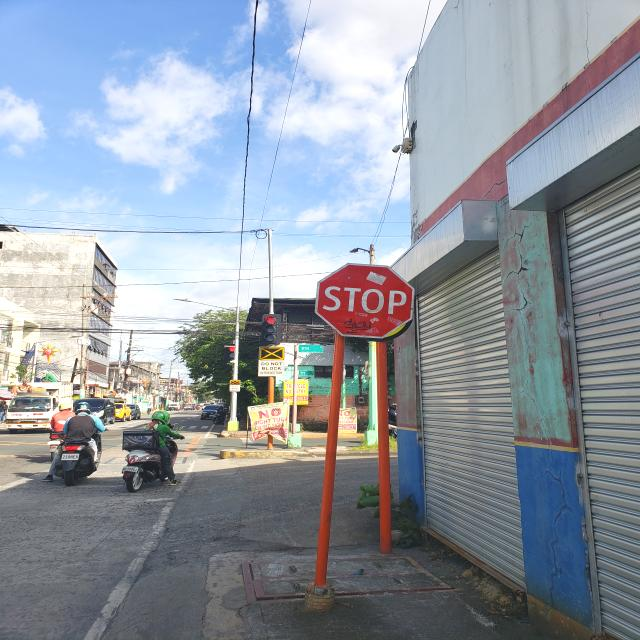stop-sign: (314, 262, 416, 338)
